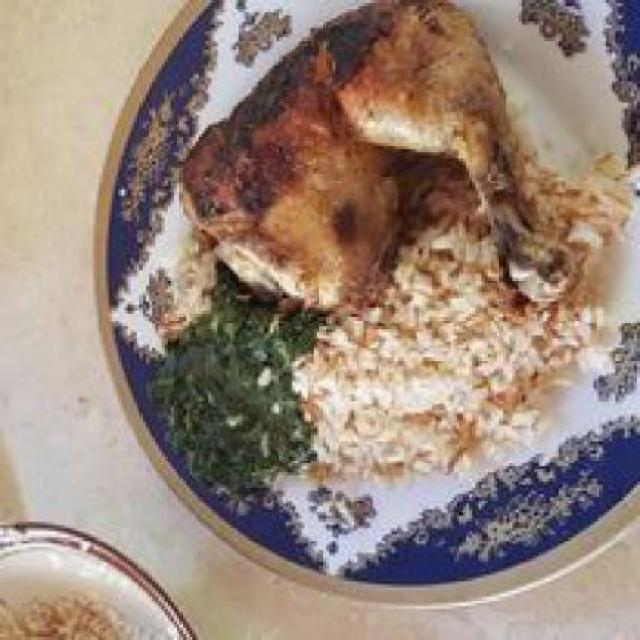fried rice: (310, 150, 622, 472), (3, 584, 146, 638)
molokhia: (146, 282, 326, 498)
